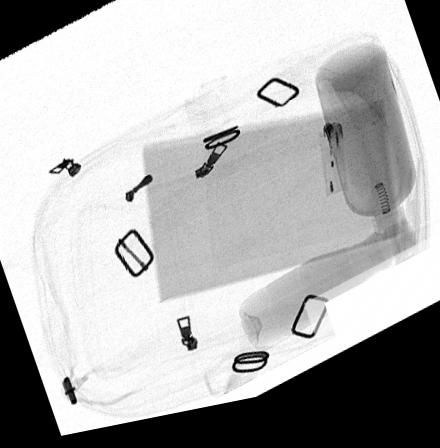Lighter: (317, 134, 349, 211)
